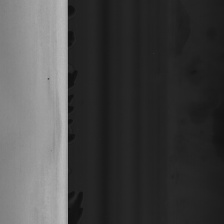inclusion: (46, 75, 50, 84)
